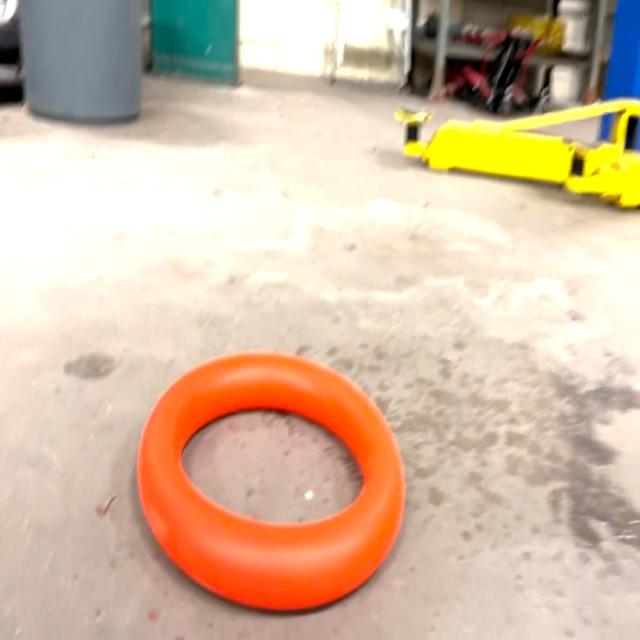note: (140, 356, 404, 606)
